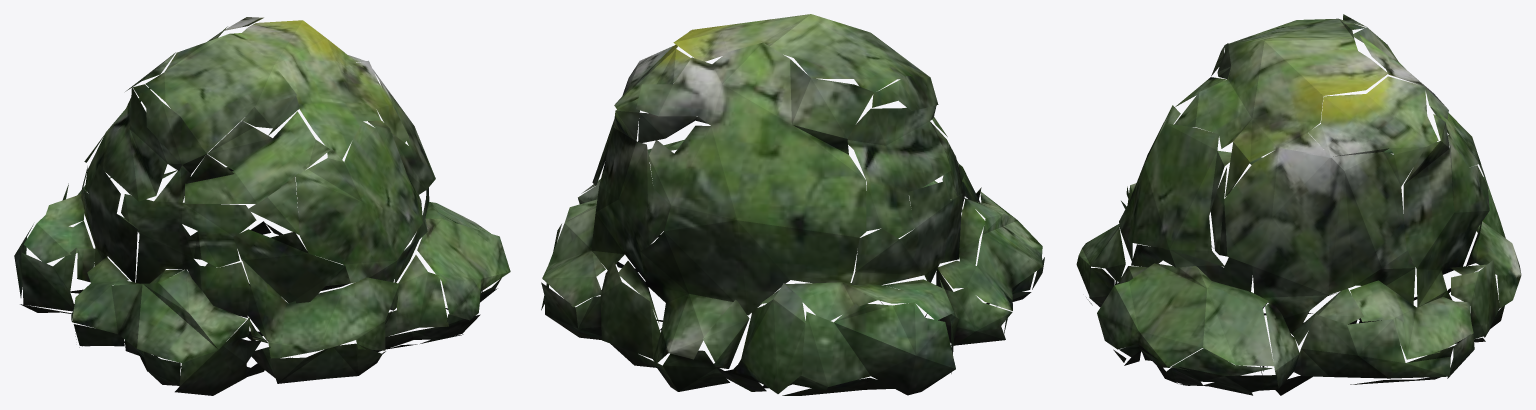
Rendered from rock_big.glb.
3 views of the same model, side by side, from view 1: azimuth 30°, elevation 25°; view 2: azimuth 150°, elevation 25°; view 3: azimuth 270°, elevation 25° (orthographic). The views are drawn at different scales.
Parts seen in each view (by area): view 1: geometry_0; view 2: geometry_0; view 3: geometry_0.
Boxes of the visible parts, left/top/right/bottom form: geometry_0: left=14, top=17, right=510, bottom=395; geometry_0: left=541, top=14, right=1044, bottom=395; geometry_0: left=1076, top=14, right=1521, bottom=395.
Size of the model in its own units: 0.9917 by 0.6939 by 0.91.
Materials: 1 (1 with a texture image).
